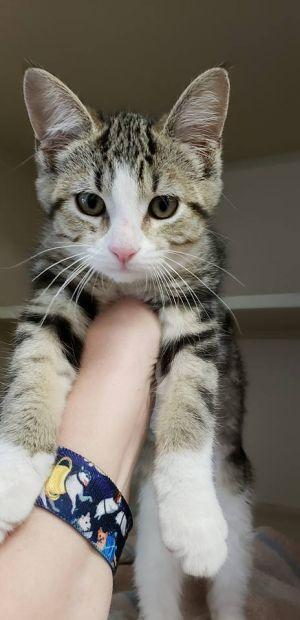bengal: (5, 46, 250, 296)
